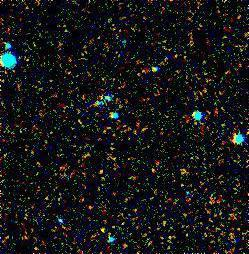star: (90, 216, 120, 246)
